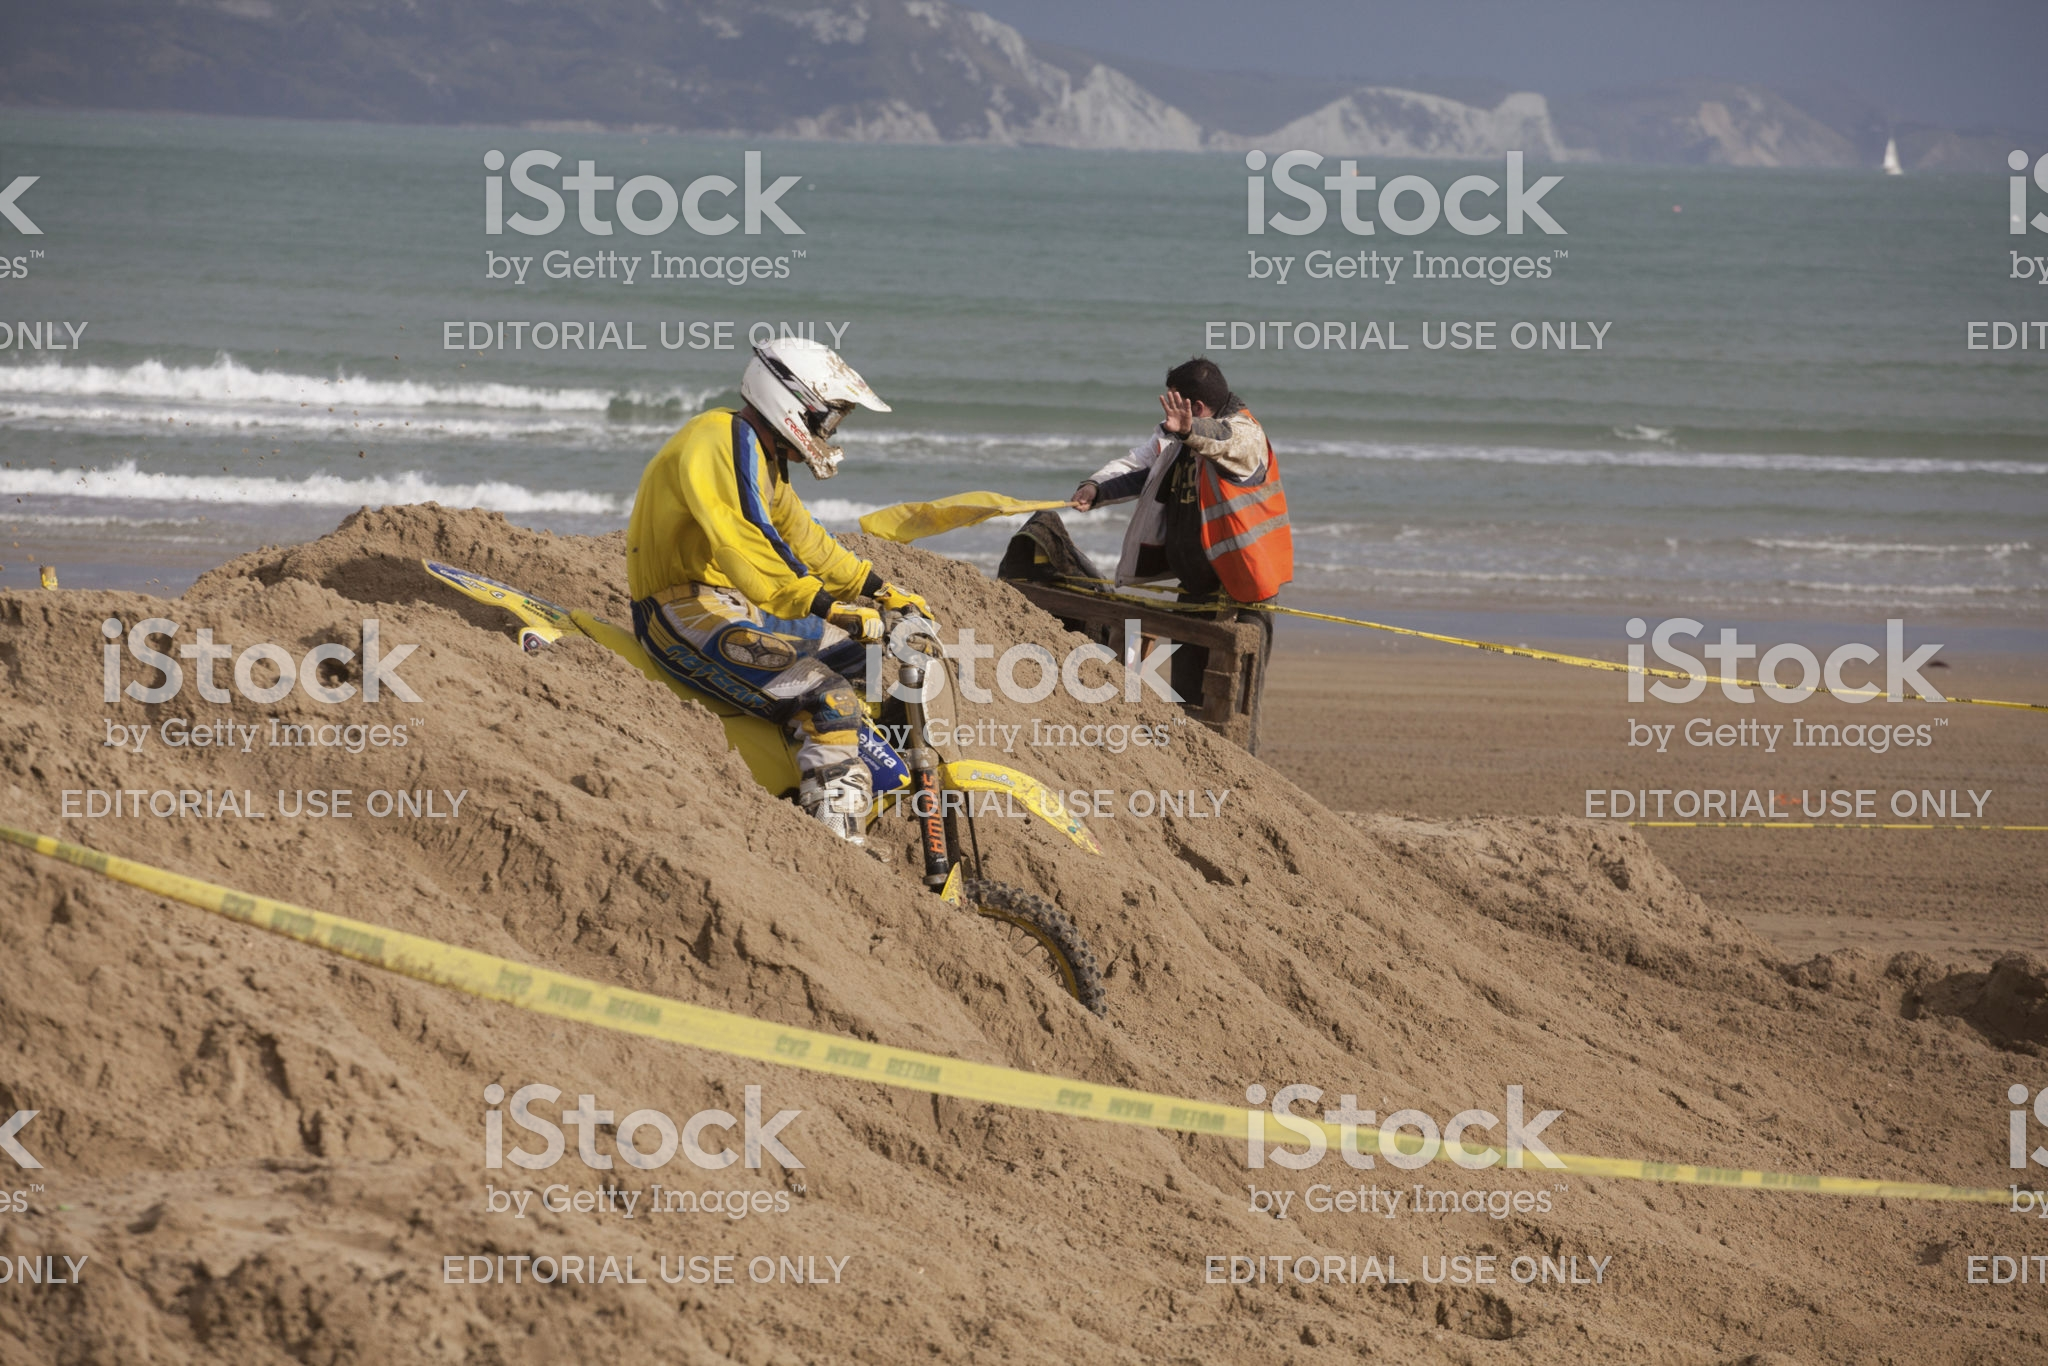helmet: (712, 308, 890, 473)
